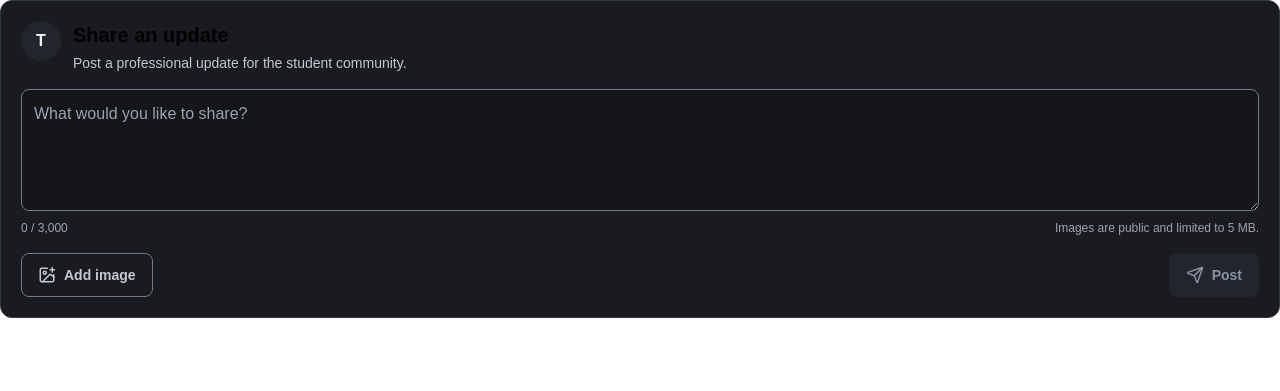
Test: composer retains a failed text draft and reports the save failure
Type "A real update that should remain after a failed save." into the text box labelled "What would you like to share?" at (640, 150), box x1=21 y1=89 x2=1259 y2=211
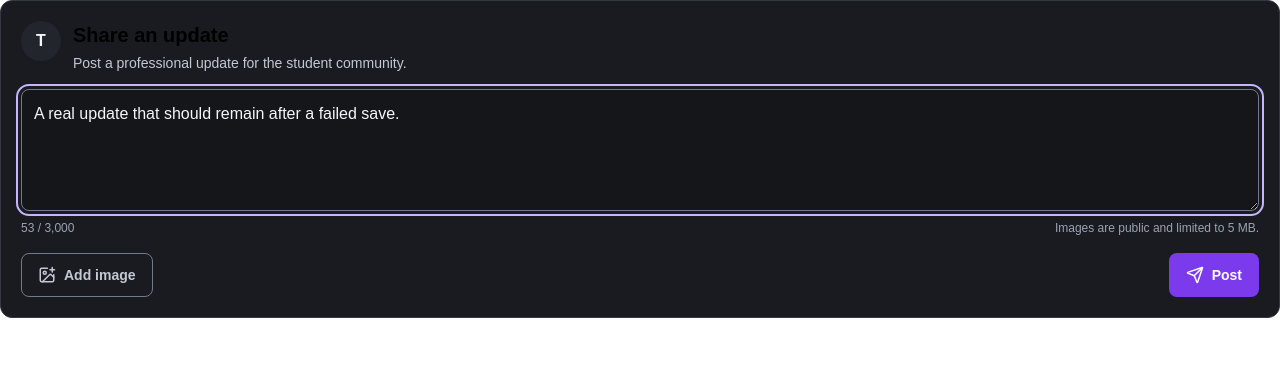
Click the button "Post" at (1214, 275), box x1=1169 y1=253 x2=1259 y2=297
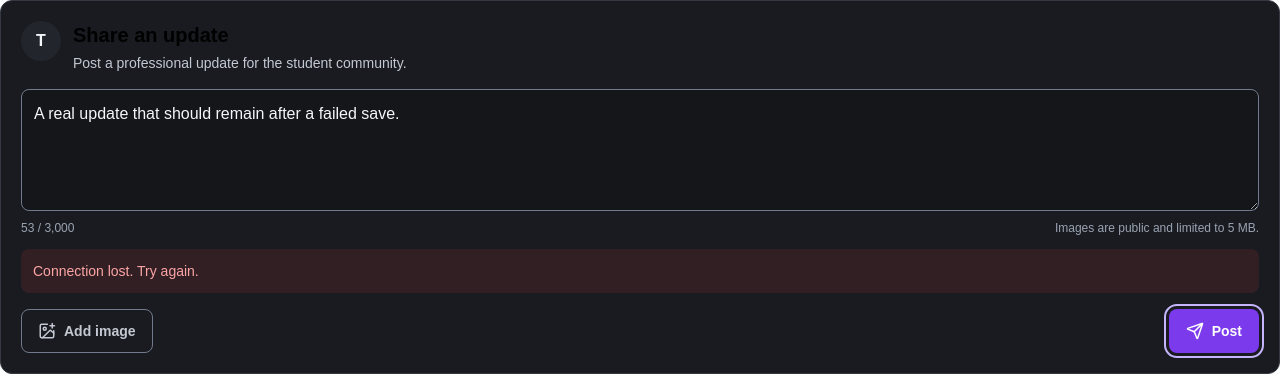
Now the message reads "Connection lost. Try again.", box x1=33 y1=263 x2=199 y2=279
